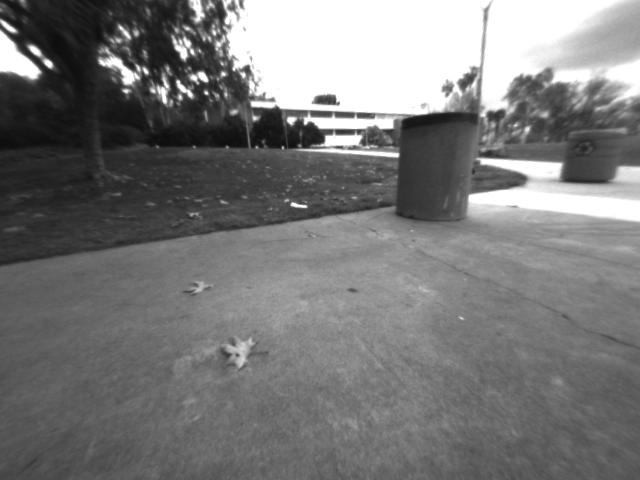trashcan: (391, 112, 488, 225), (556, 124, 630, 195)
